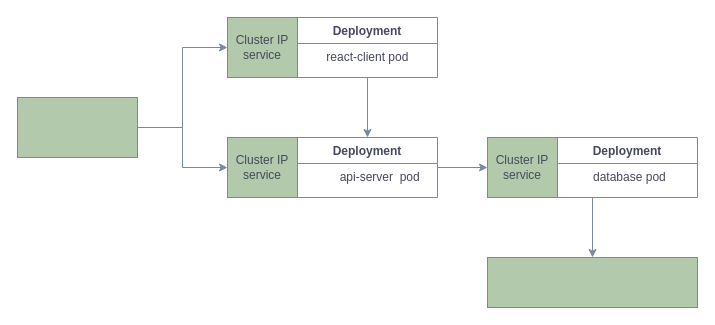
This 715x325 diagram has some shape labels left out. The centre of each missing label's shape, as x and y in pixels:
"Ingress Service nginx" goes at point 77,127.
"Postgres" goes at point 592,282.
